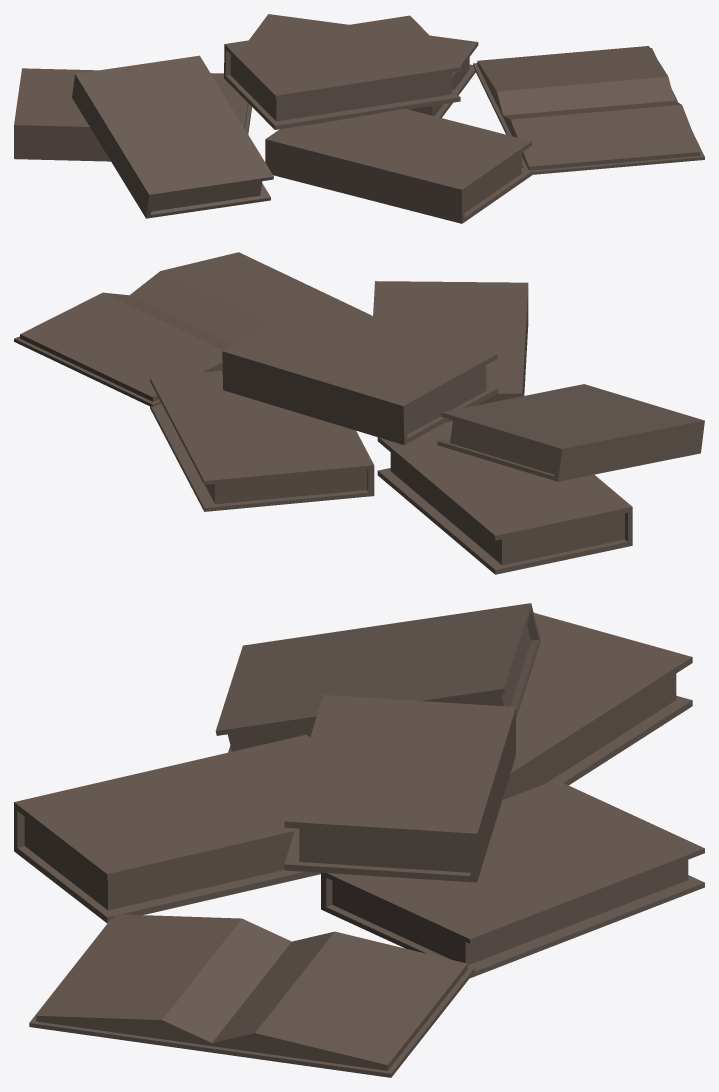
File: FallenBooks2.fbx.glb
The picture shows the model from 3 angles, top to bottom: view 1: azimuth 30°, elevation 25°; view 2: azimuth 150°, elevation 25°; view 3: azimuth 270°, elevation 25°; orthographic projection. The views are drawn at different scales.
Visible parts, largest first — view 1: FallenBooks2.1; view 2: FallenBooks2.1; view 3: FallenBooks2.1.
Boxes of the visible parts, bbox=[...] form: FallenBooks2.1: bbox=[14, 14, 704, 223]; FallenBooks2.1: bbox=[14, 252, 704, 574]; FallenBooks2.1: bbox=[14, 603, 704, 1077].
Size of the model in its own units: 70.49 by 8.33 by 49.43.
